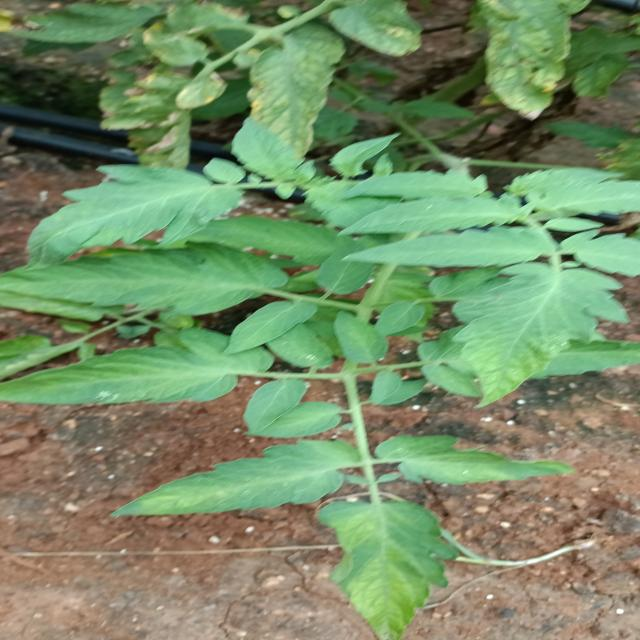Healthy Leaf: (19, 160, 251, 272), (457, 256, 608, 419), (102, 438, 361, 530), (387, 424, 605, 488), (220, 294, 319, 357)
